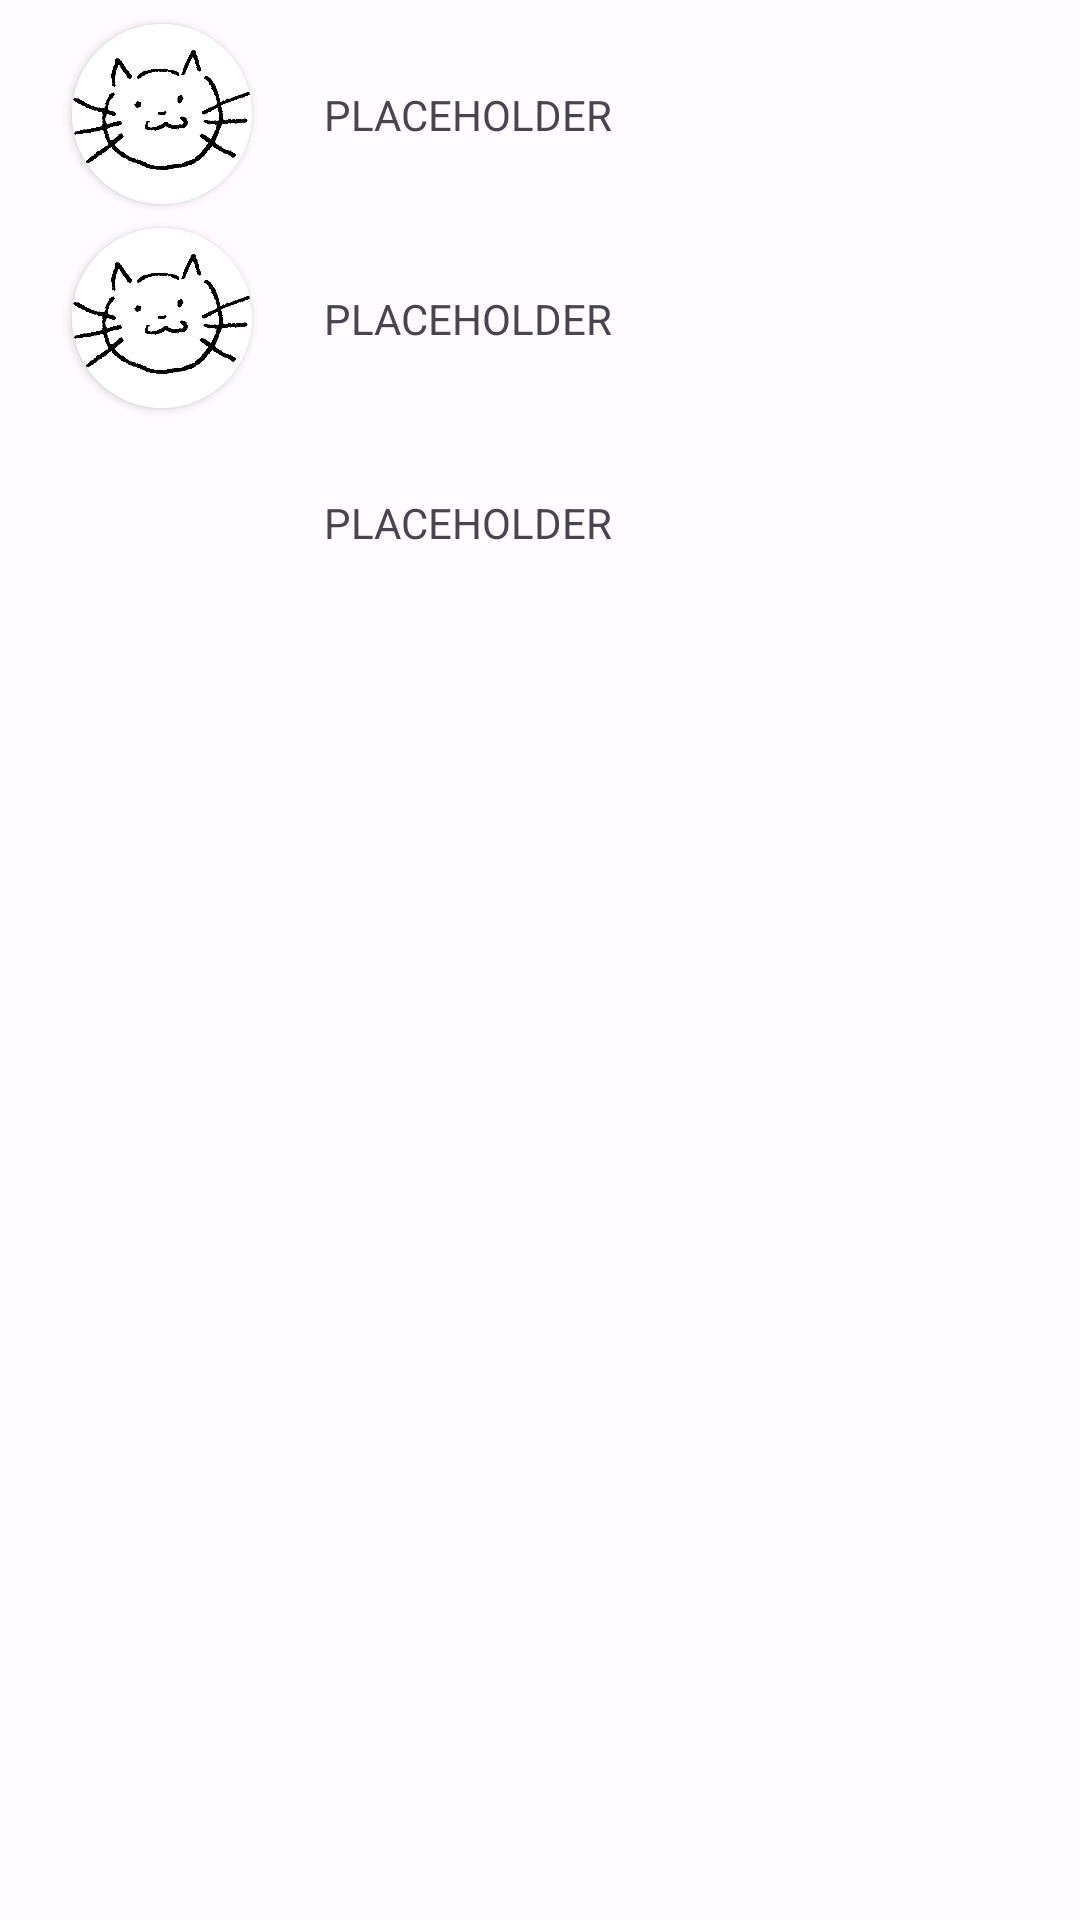

Where to tap for icons on this 1080w x 1920h app screen, as (x,y):
cat note scan: (161,115), (161,331)
